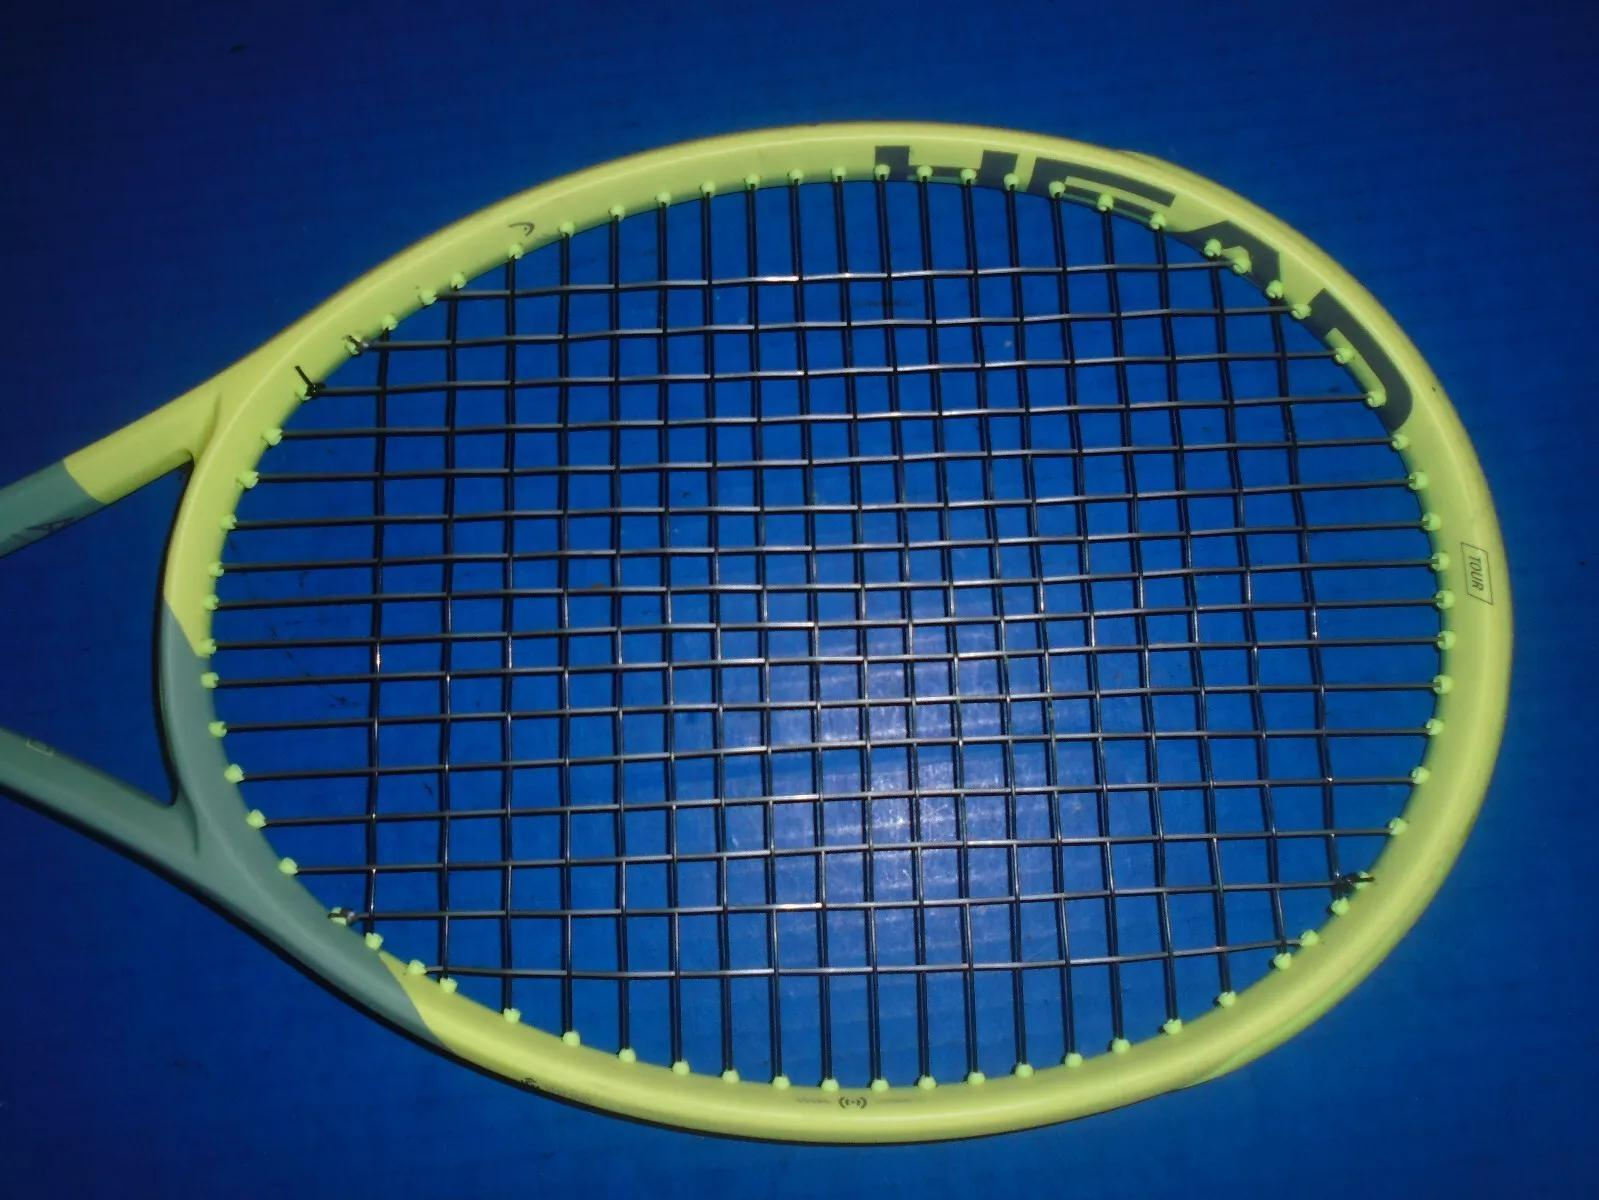Tennis-Racket: (0, 121, 1512, 1142)
